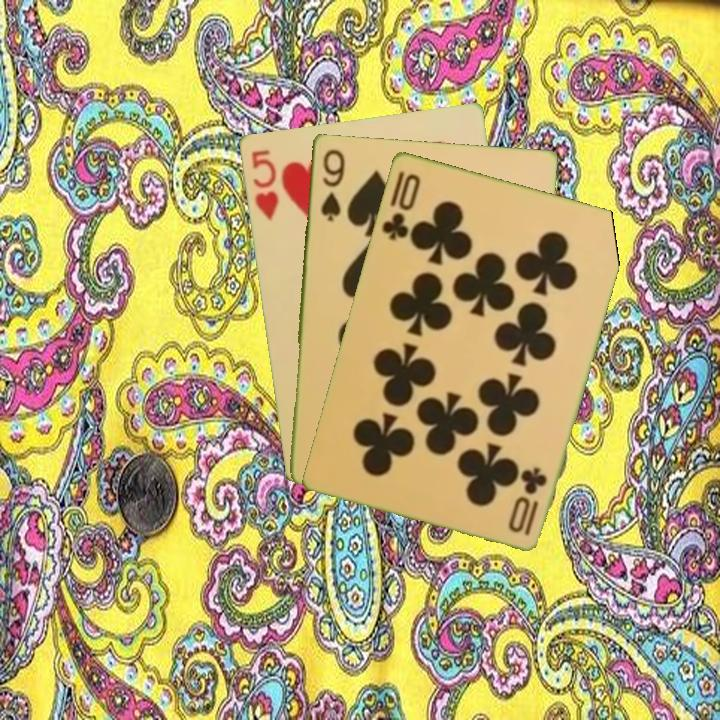10c: (377, 169, 423, 243), (518, 463, 550, 539)
5h: (247, 145, 281, 223)
9s: (317, 145, 347, 224)
